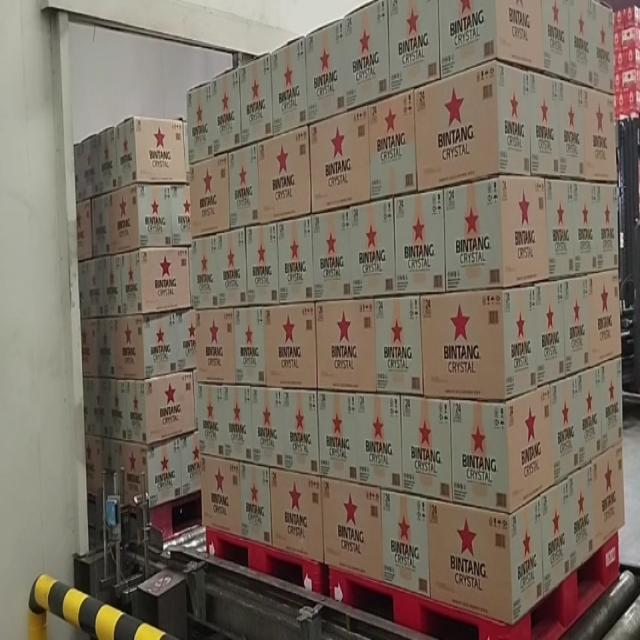pallet: (322, 0, 640, 640), (184, 28, 332, 620), (52, 101, 210, 556)
